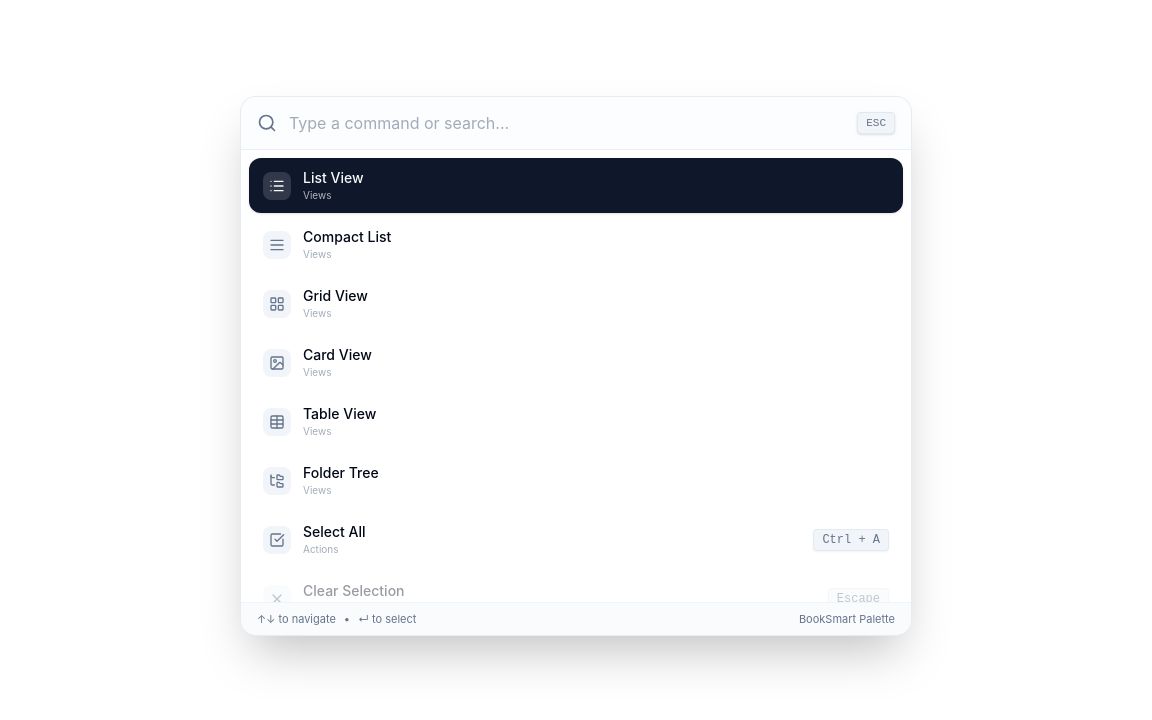
Scenario: CommandPalette › filters commands as user types
The width and height of the screenshot is (1152, 720).
Type "theme" into the field with placeholder "Type a command or search...".
click(567, 123); type("theme")  # box [289,111,845,135]
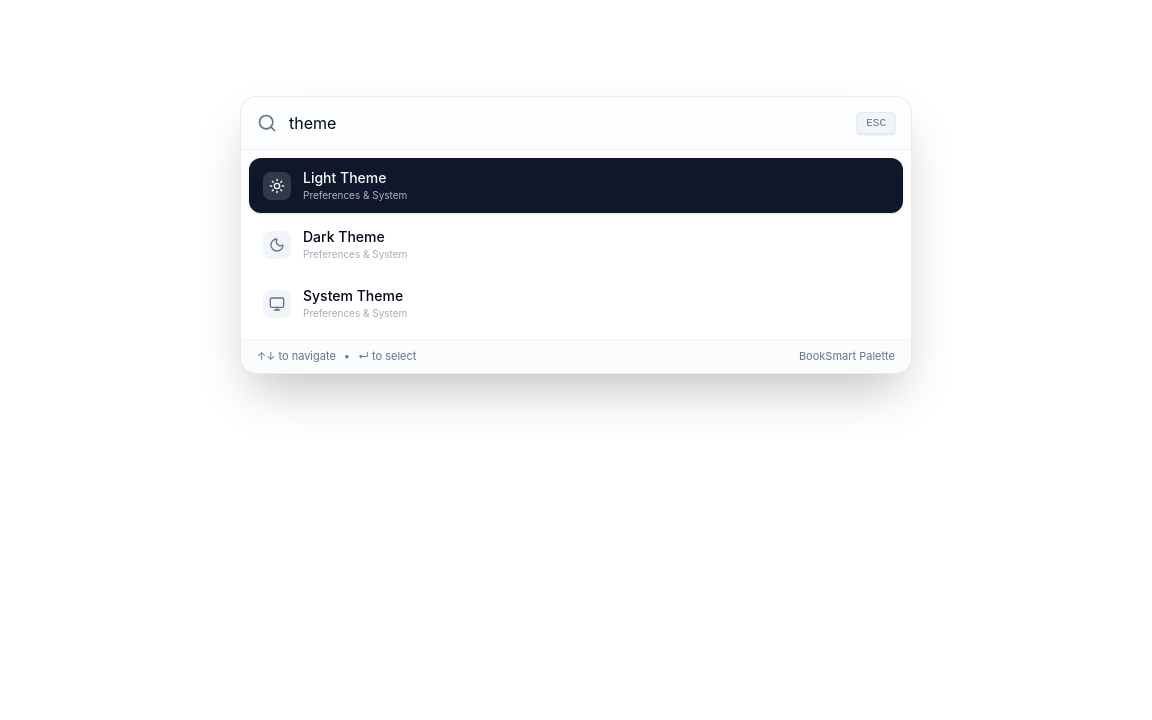
Expected: the text "Light Theme" is shown, [303,169,386,186]
Expected: the text "Dark Theme" is shown, [303,228,385,245]
Expected: the button "List View" is gone
